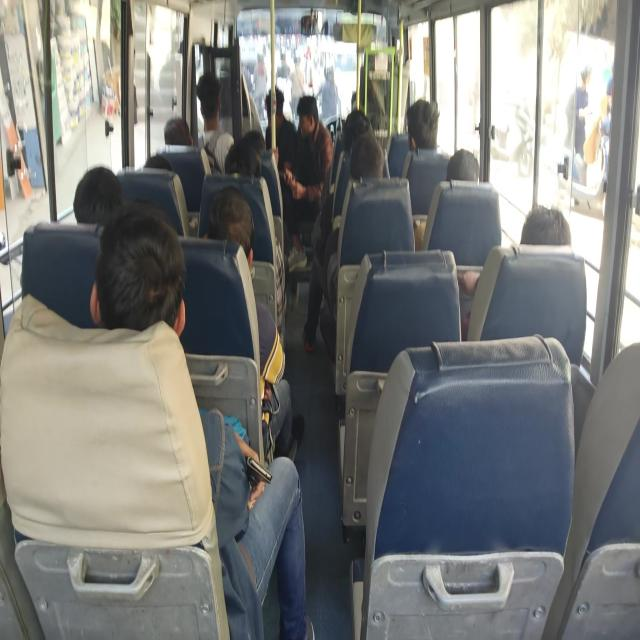person: (106, 210, 203, 346), (70, 165, 123, 235), (204, 181, 252, 245), (522, 208, 563, 263), (326, 104, 368, 148), (146, 136, 184, 184), (349, 134, 381, 188), (194, 66, 226, 112), (161, 106, 190, 146), (296, 95, 320, 143), (408, 104, 433, 150), (236, 135, 258, 181), (449, 150, 476, 187), (233, 122, 268, 147), (266, 87, 288, 125)
